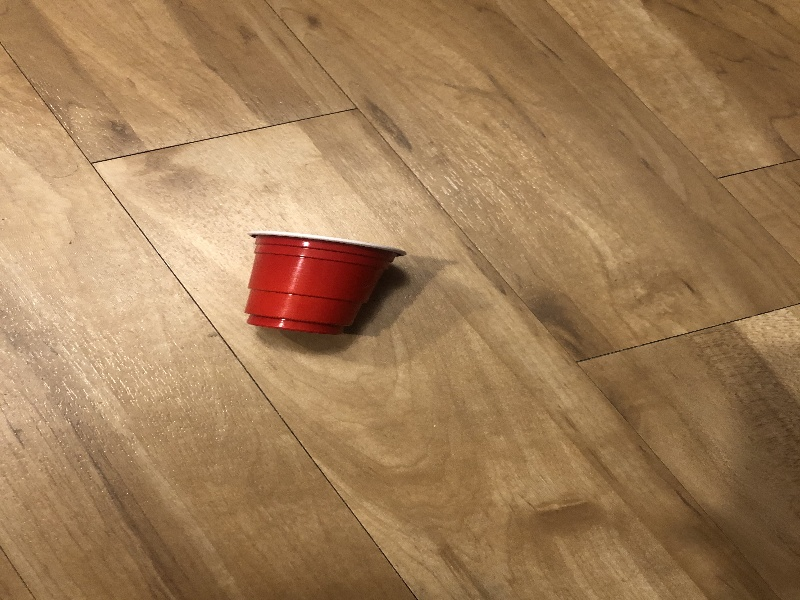plastic: (243, 221, 408, 338)
